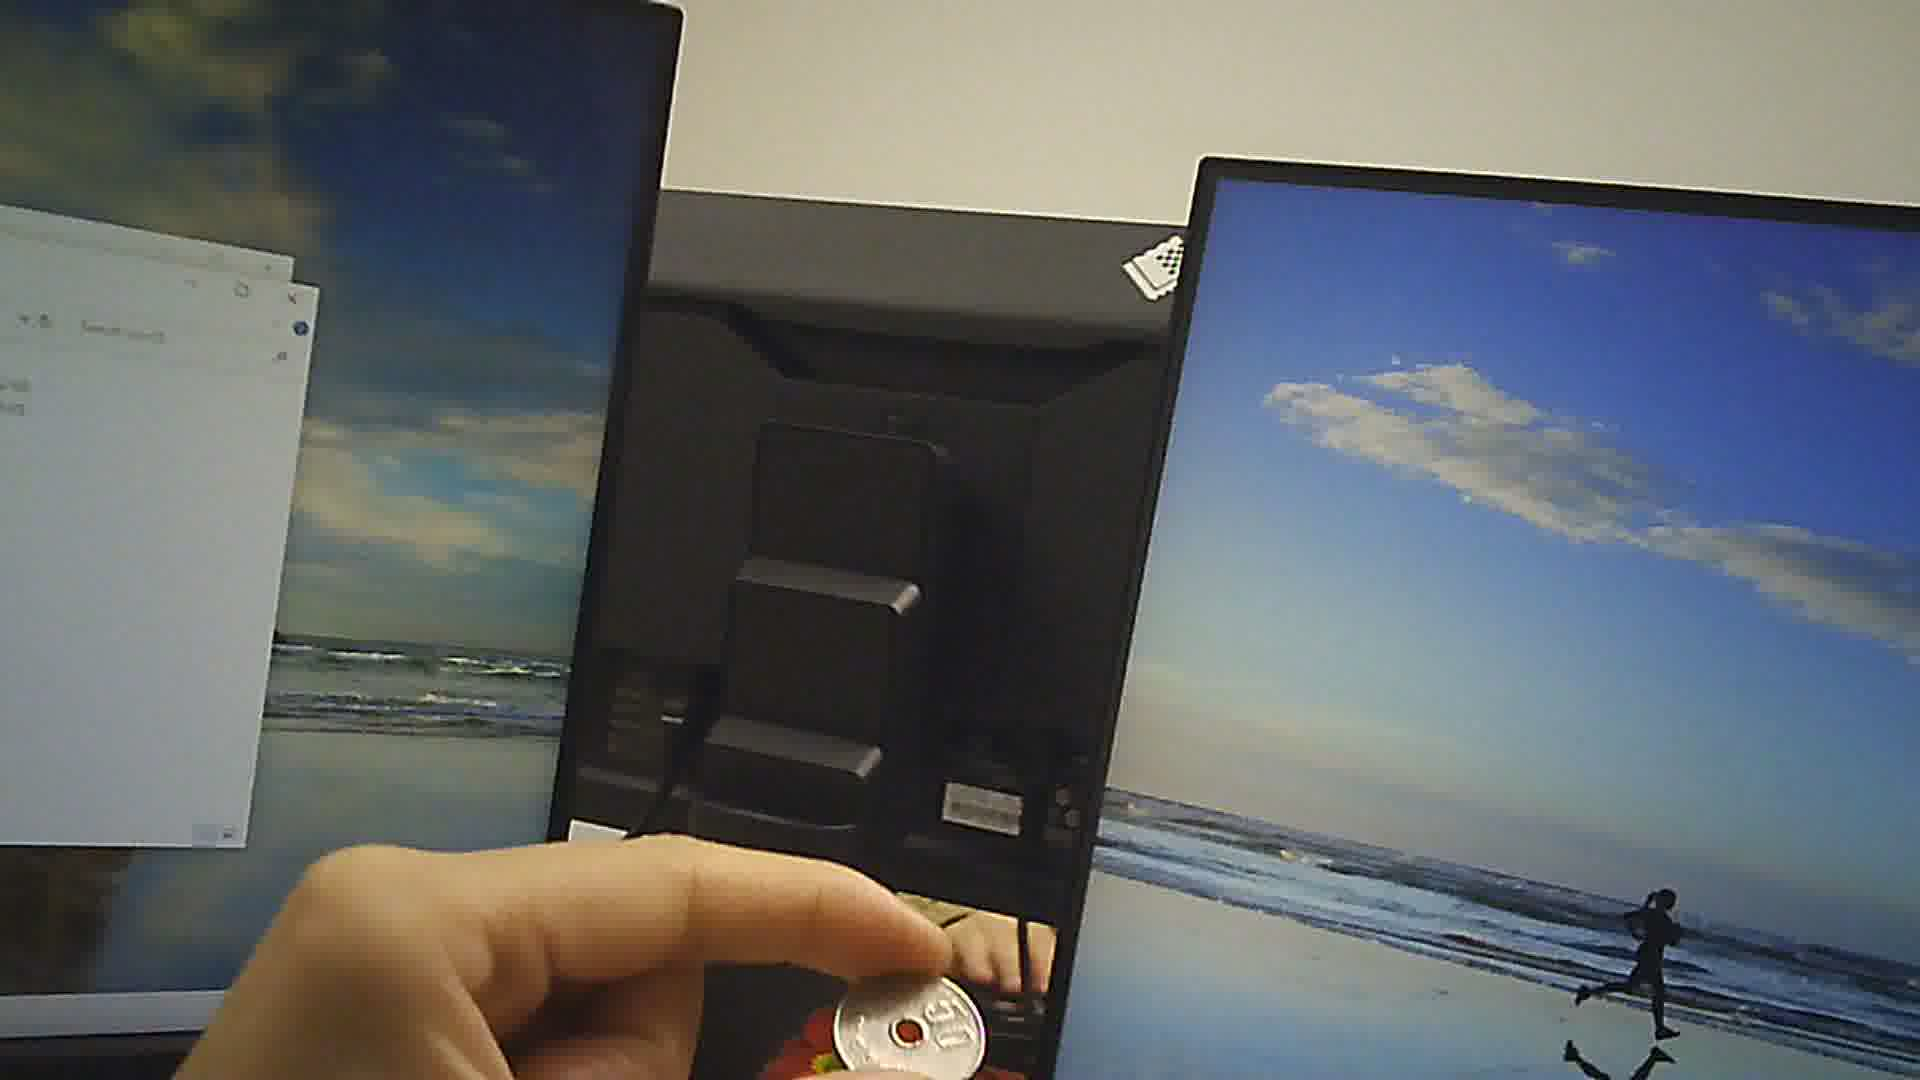50 Yen: (831, 963, 985, 1079)
